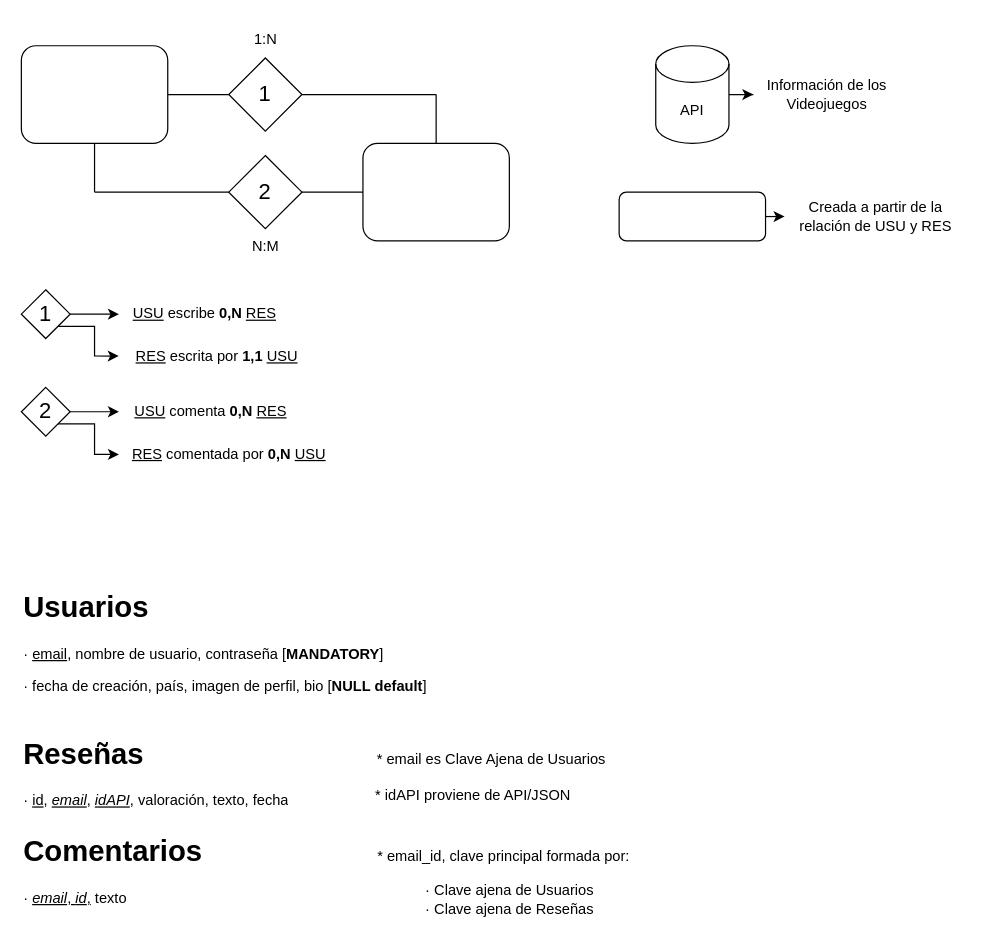
This 988x948 diagram has some shape labels left out. Each missing label, with the box of its shape:
COMENTARIOS: (618, 191, 766, 241)
RESEÑAS: (362, 142, 509, 241)
USUARIOS: (20, 45, 168, 143)
